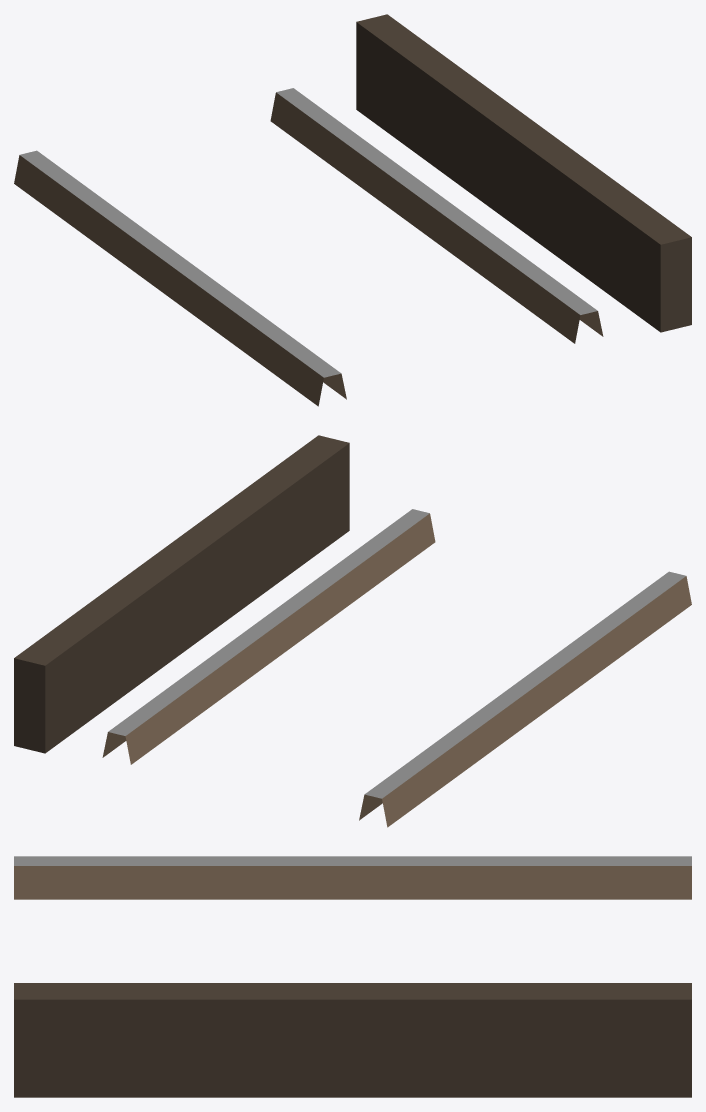
The model's file is SW_ENV_TrackStraight_03m_Collision.fbx.
3 renders of one model, top to bottom at view 1: azimuth 30°, elevation 25°; view 2: azimuth 150°, elevation 25°; view 3: azimuth 270°, elevation 25°, orthographic. The views are drawn at different scales.
Visible parts, largest first — view 1: SW_ENV_TrackStraight_03m_Collision; view 2: SW_ENV_TrackStraight_03m_Collision; view 3: SW_ENV_TrackStraight_03m_Collision.
Boxes of the visible parts, x1,y1,x2,y2 form: SW_ENV_TrackStraight_03m_Collision: (14, 14, 691, 406); SW_ENV_TrackStraight_03m_Collision: (14, 435, 691, 827); SW_ENV_TrackStraight_03m_Collision: (14, 856, 691, 1097).
Bounding box in the file's own units: 212 × 47.71 × 300.
